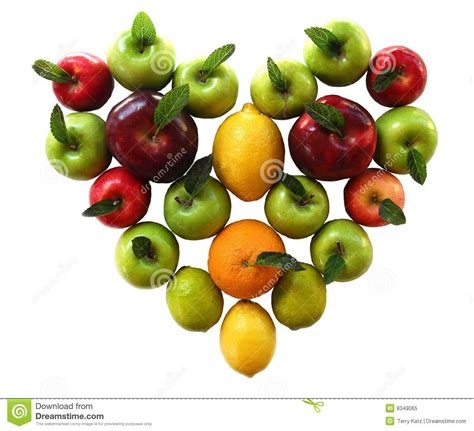apple: (108, 90, 195, 184), (290, 90, 378, 181), (104, 25, 178, 96), (43, 112, 113, 184), (109, 218, 178, 291), (82, 163, 154, 232), (304, 18, 373, 90), (372, 105, 441, 176), (261, 173, 333, 240), (248, 58, 320, 125), (308, 217, 380, 282), (167, 55, 241, 118), (342, 166, 412, 232), (162, 173, 232, 239), (46, 52, 119, 113), (365, 43, 430, 110)
orange: (206, 216, 288, 303)
